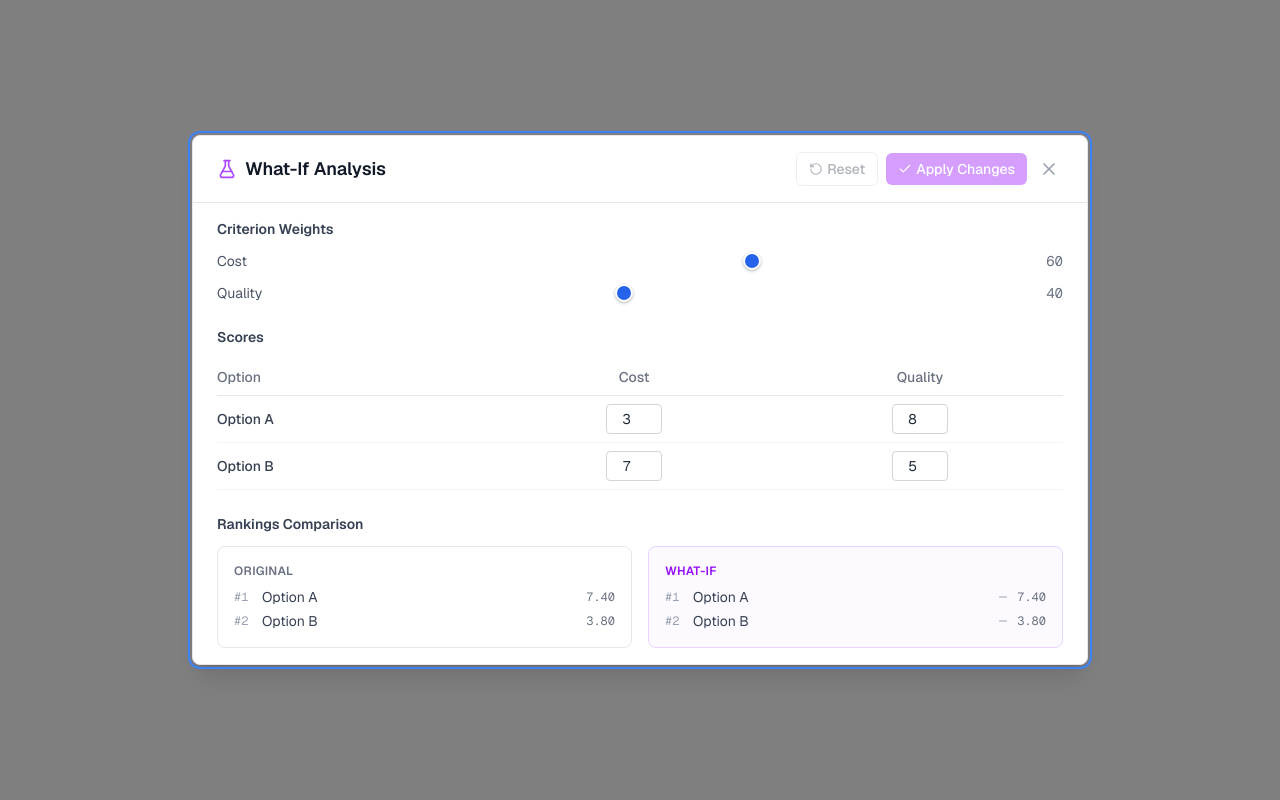
Test: WhatIfPanel › enables Apply after changing a score
Note: Change first score input
Replace the text in the number field named "score" with "5": (634, 419) [606,404,662,434]
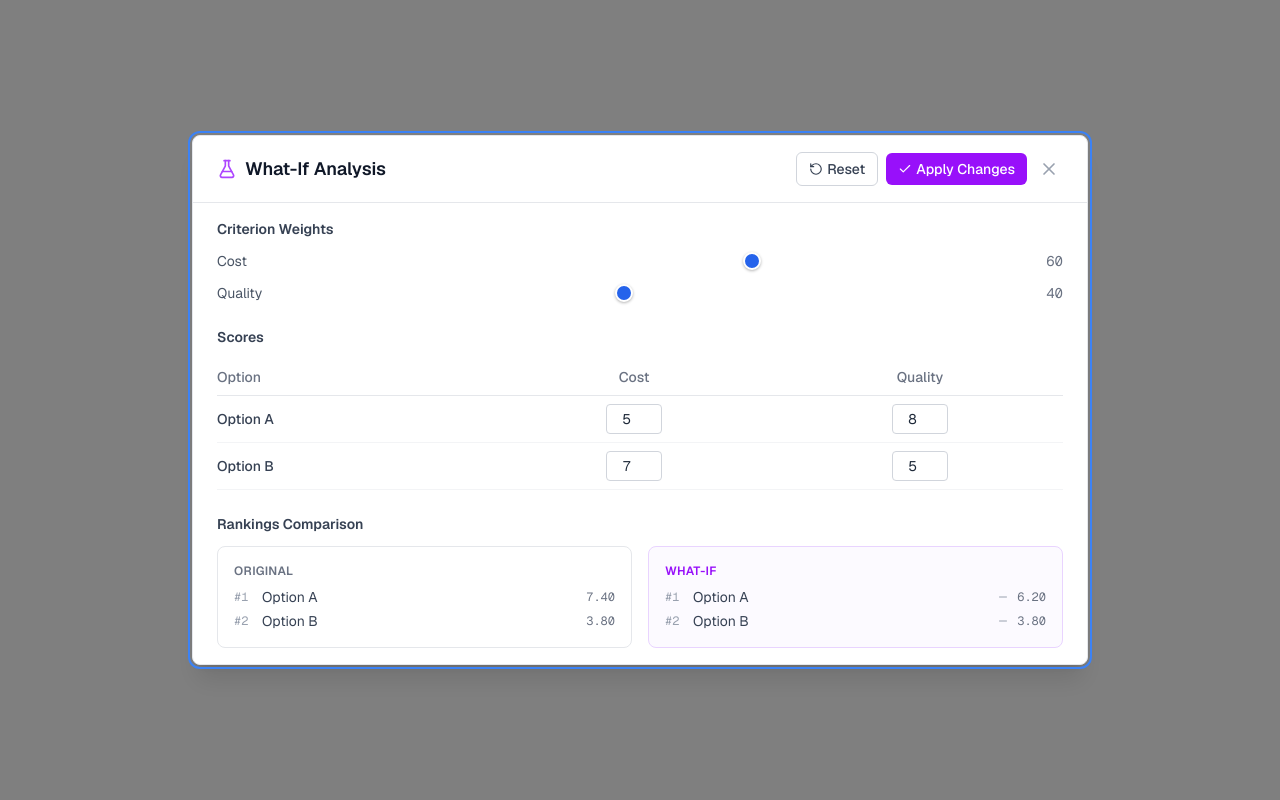
Now the button with test id "whatif-apply" is enabled, box [886,153,1027,185]
